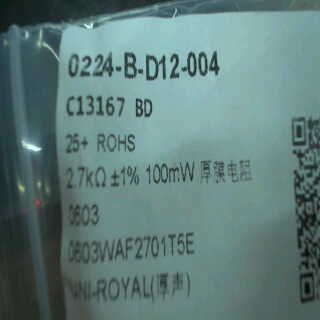2.7kR: (63, 162, 107, 194)
